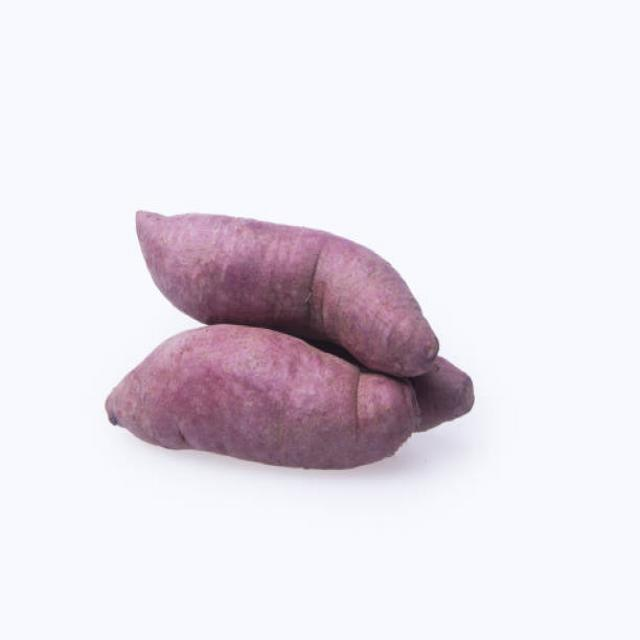Sweet Potato: (104, 324, 412, 474), (133, 195, 380, 325)
